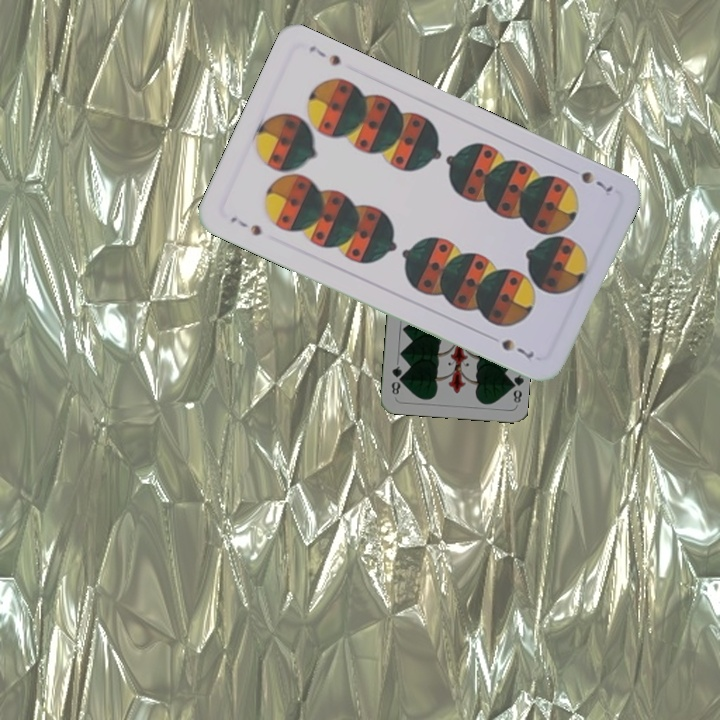G8: (505, 370, 526, 405)
S7: (576, 167, 616, 199), (226, 212, 264, 239)
